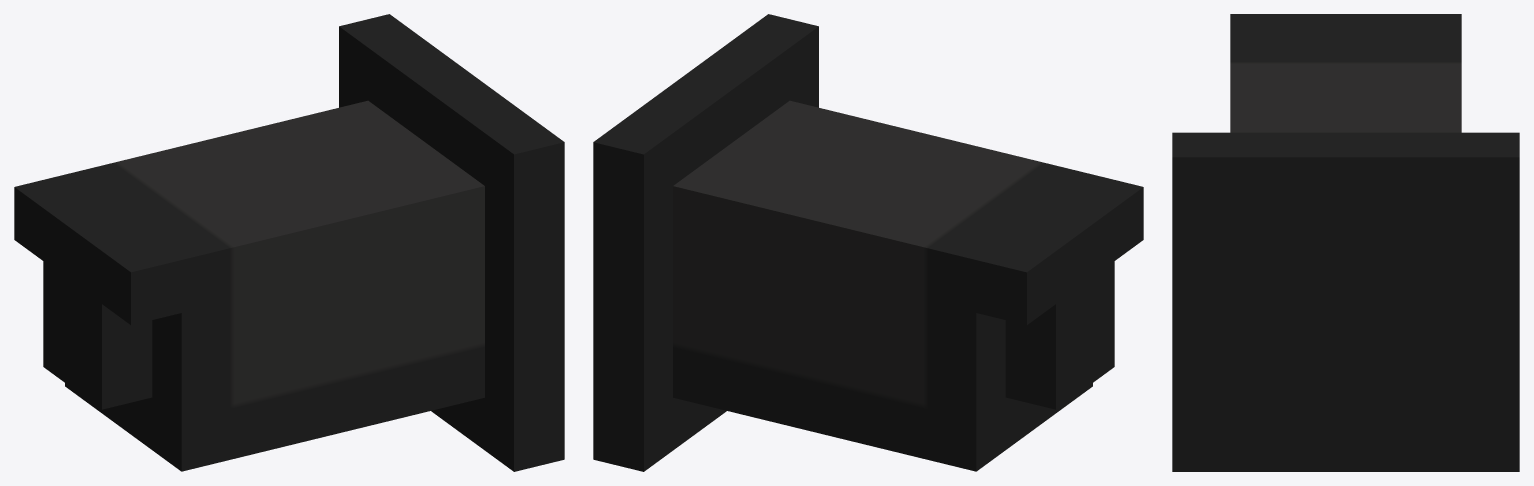
The model's file is Shoulder001.fbx.
3 views of the same model, side by side, from view 1: azimuth 30°, elevation 25°; view 2: azimuth 150°, elevation 25°; view 3: azimuth 270°, elevation 25° (orthographic).
Parts seen in each view (by area): view 1: Shoulder001; view 2: Shoulder001; view 3: Shoulder001.
Part boxes in pixels (<box>): Shoulder001: <box>14,14,564,471</box>; Shoulder001: <box>593,14,1143,471</box>; Shoulder001: <box>1172,14,1519,471</box>.
Bounding box in the file's own units: 8 × 6 × 6.
